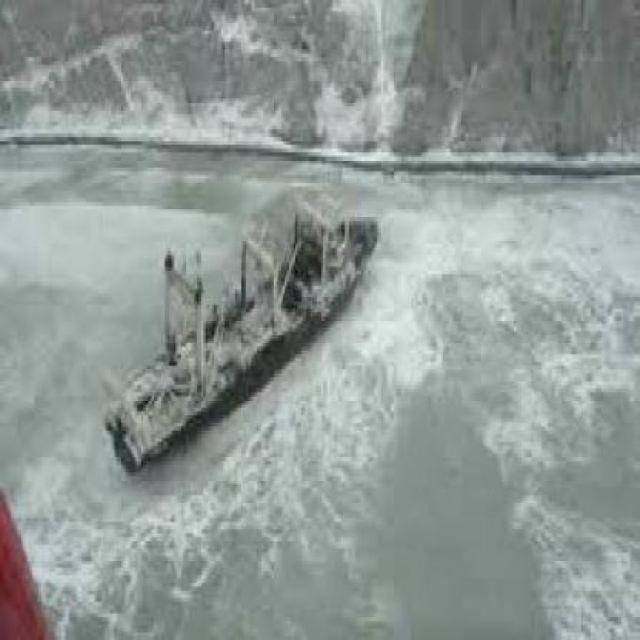fish-b: (93, 164, 391, 496)
